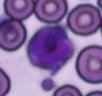L: (27, 26, 75, 72)
